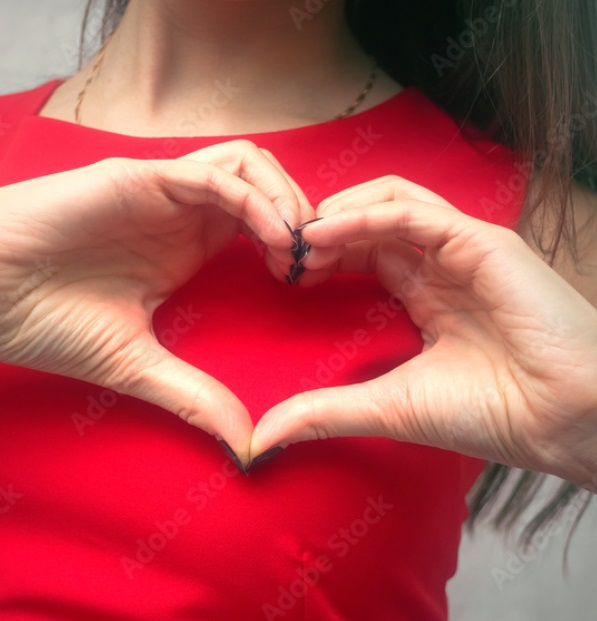heart: (9, 139, 571, 480)
